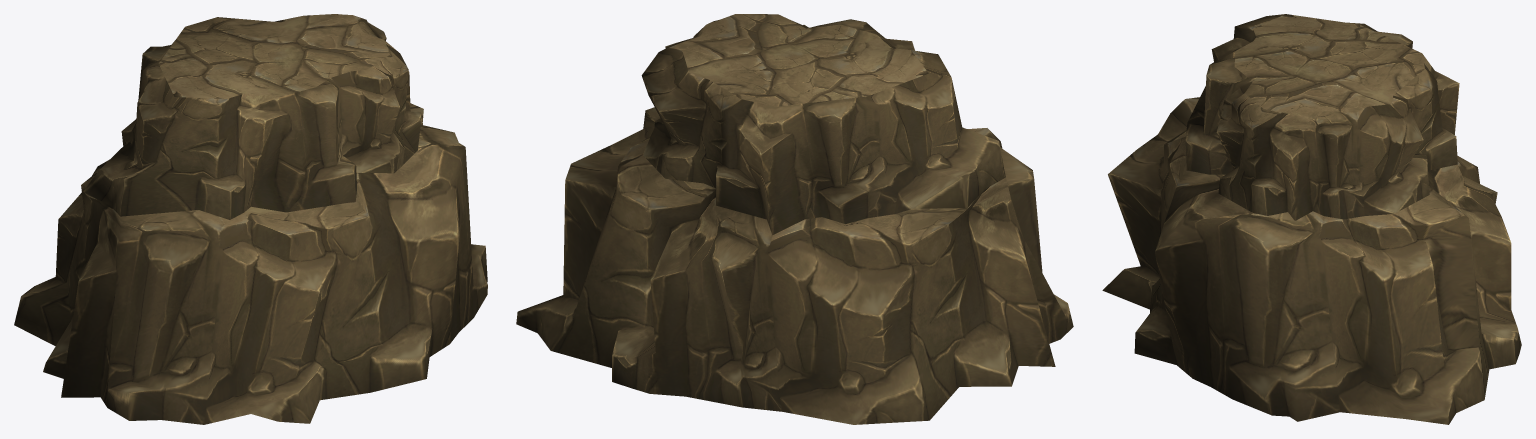
Rendered from D_dimian009.fbx.
3 renders of one model, left to right at view 1: azimuth 30°, elevation 25°; view 2: azimuth 150°, elevation 25°; view 3: azimuth 270°, elevation 25°, orthographic. The views are drawn at different scales.
Visible parts, largest first — view 1: D_dimian009; view 2: D_dimian009; view 3: D_dimian009.
Part boxes in pixels (box(x1,y1,x2,y2)): D_dimian009: box(14, 14, 487, 424); D_dimian009: box(516, 14, 1073, 424); D_dimian009: box(1102, 14, 1521, 424).
Bounding box in the file's own units: 2101 × 1254 × 1776.
